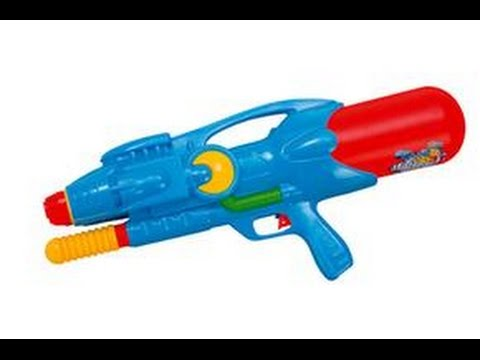Arma Falsa: (39, 85, 475, 289)
